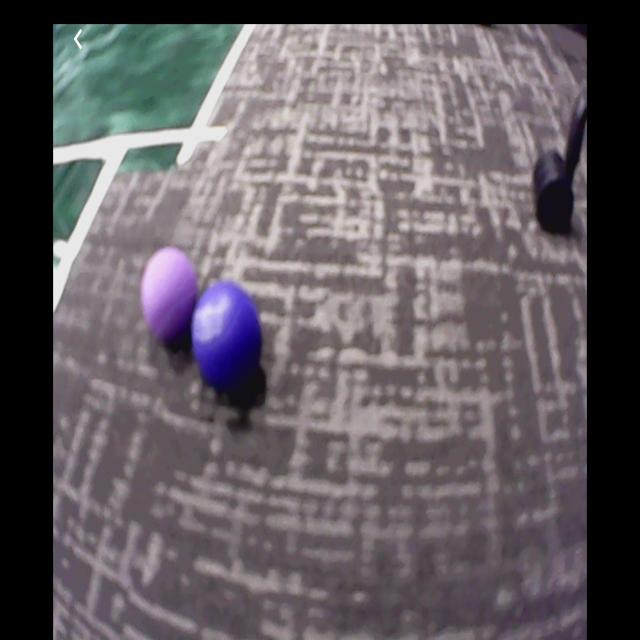ball: (193, 283, 265, 390), (144, 251, 197, 346)
